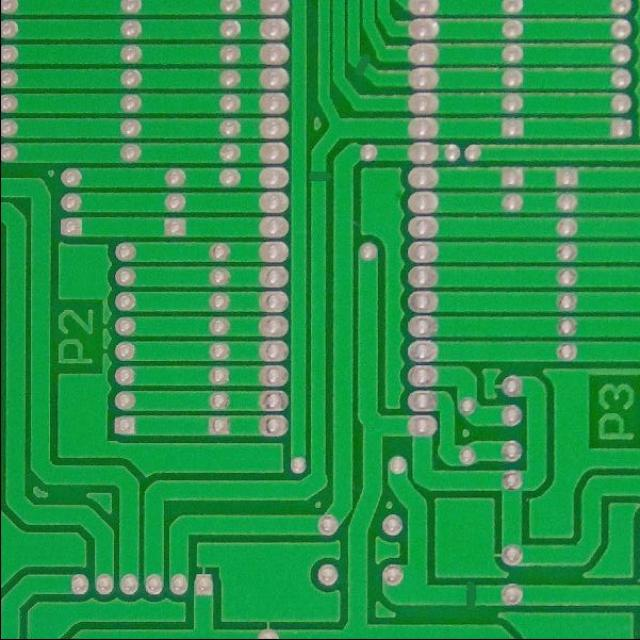open_circuit: (306, 162, 332, 189), (458, 582, 481, 612), (350, 52, 372, 81)
